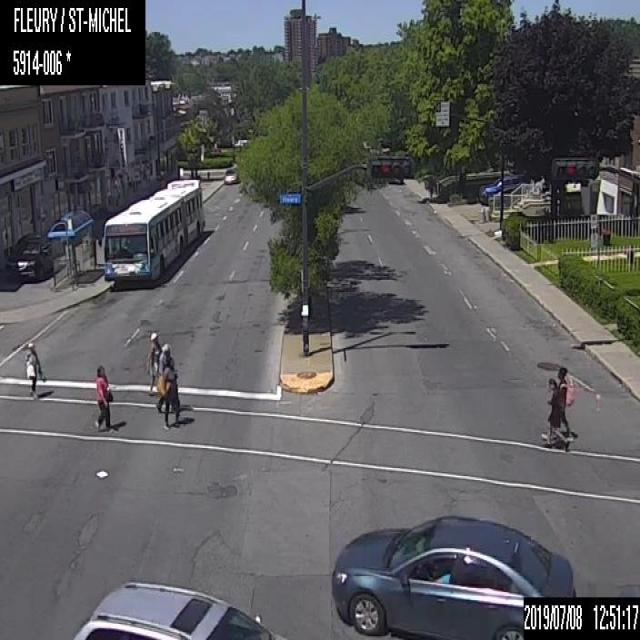bus: (100, 176, 205, 281)
pedestrian: (554, 364, 574, 448), (92, 364, 114, 431), (162, 356, 179, 431), (544, 377, 560, 445), (24, 340, 42, 399), (145, 331, 162, 391), (158, 344, 172, 415)
vehicle: (329, 511, 577, 638), (74, 580, 288, 639), (6, 230, 55, 282), (477, 170, 524, 203), (223, 167, 237, 184)
